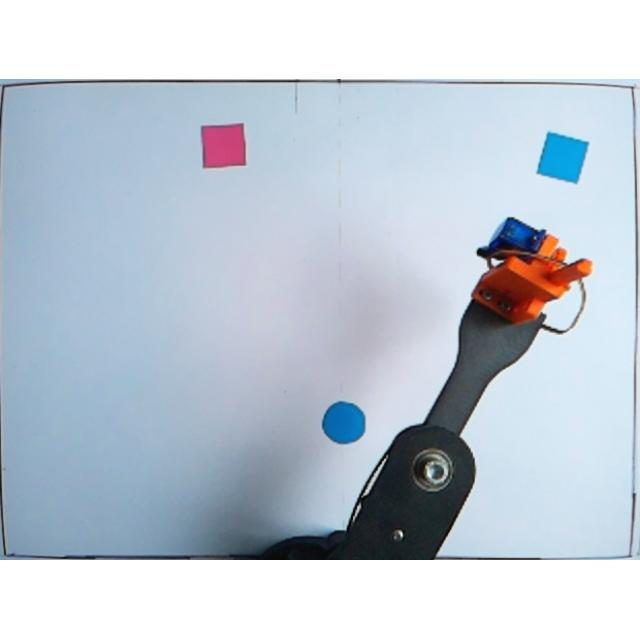blueCircle: (321, 399, 369, 448)
blueSquare: (534, 132, 592, 190)
pinkSquare: (199, 122, 247, 174)
